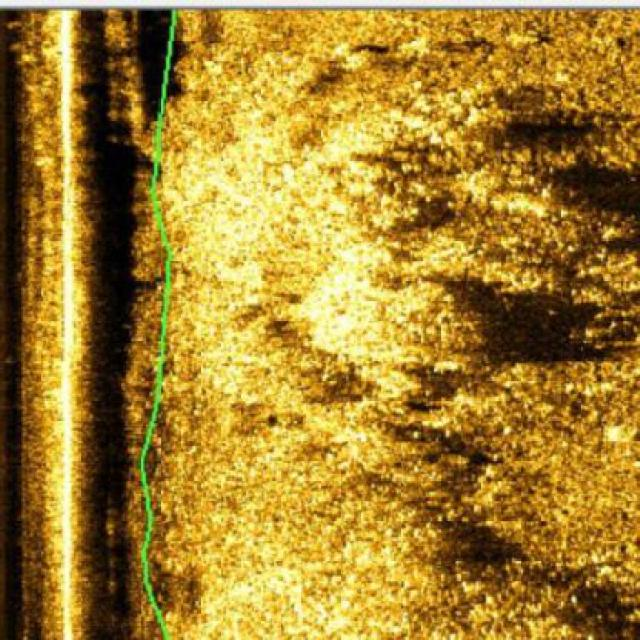bedrock group: (265, 93, 563, 378)
